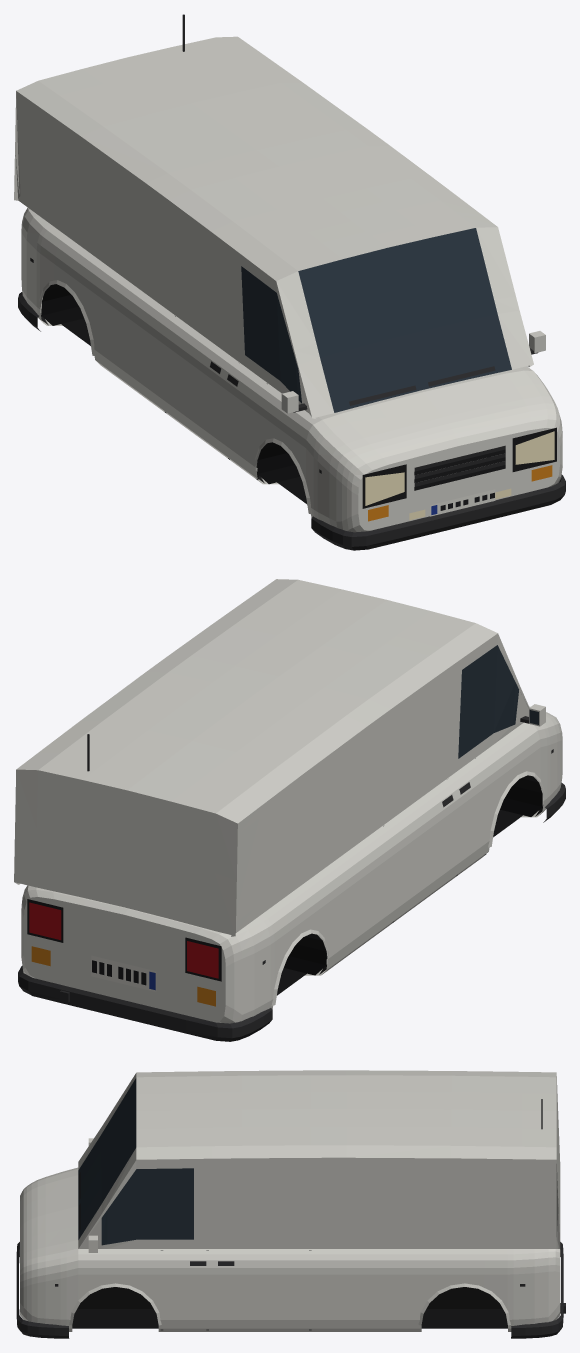
The model's file is tordo-carguero.glb.
3 views of the same model, one above another, from view 1: azimuth 30°, elevation 25°; view 2: azimuth 150°, elevation 25°; view 3: azimuth 270°, elevation 25° (orthographic). The views are drawn at different scales.
Visible parts, largest first — view 1: LOD0, door_RR, door_FR; view 2: LOD0, door_RR, door_FR; view 3: LOD0, door_RL, door_FL.
Part boxes in pixels (bbox=[...]): LOD0: bbox=[14, 14, 565, 550]; door_RR: bbox=[162, 200, 234, 455]; door_FR: bbox=[226, 250, 265, 477]; LOD0: bbox=[14, 579, 565, 1041]; door_RR: bbox=[385, 666, 459, 919]; door_FR: bbox=[451, 644, 488, 872]; LOD0: bbox=[16, 1070, 565, 1338]; door_RL: bbox=[209, 1158, 310, 1328]; door_FL: bbox=[162, 1159, 206, 1328].
Size of what is drawn, in the model's own units: 2.07 by 2.02 by 4.74.
